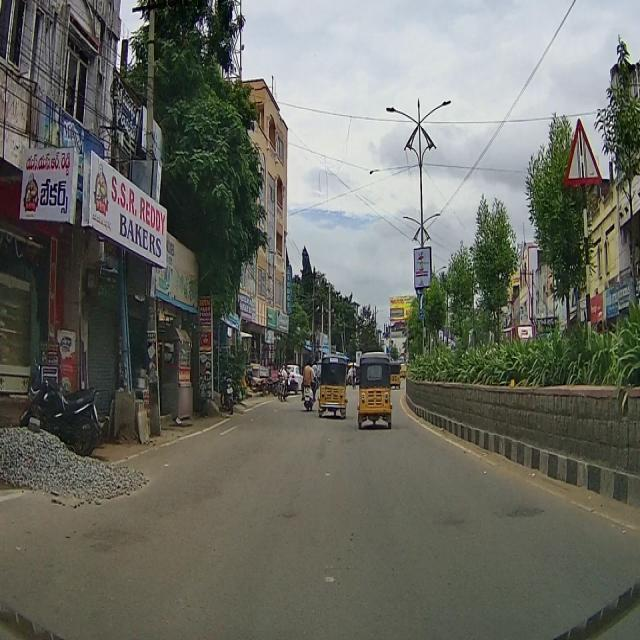gap-in-median: (566, 117, 595, 189)
